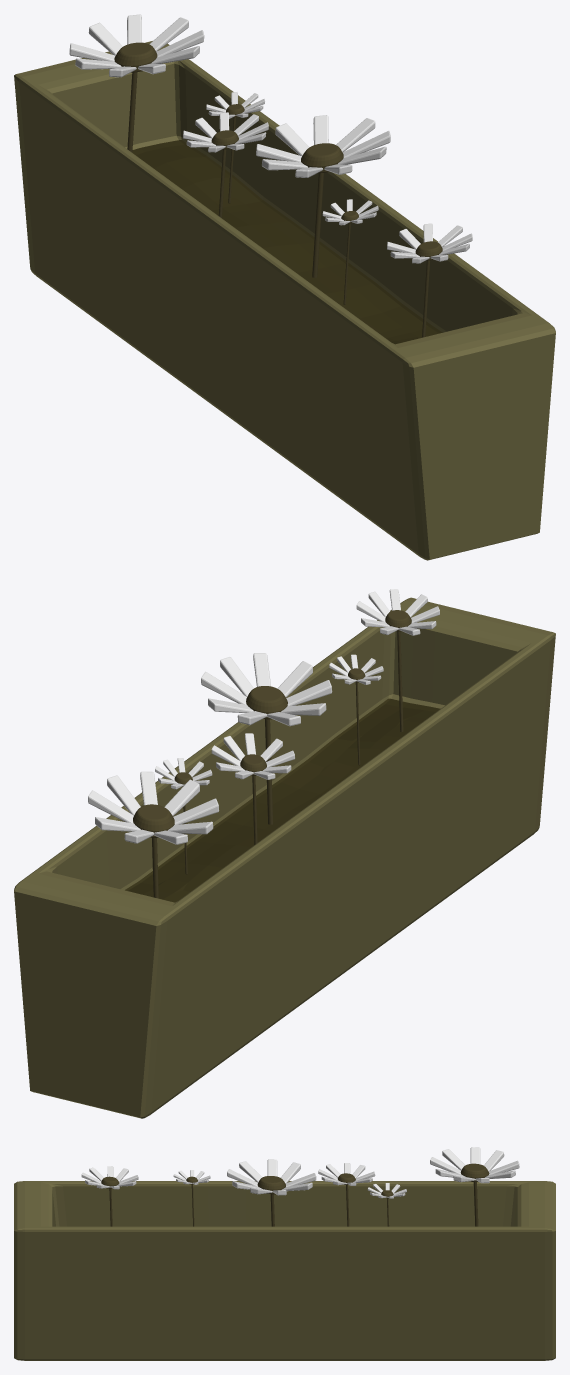
File: flower_4x1.fbx
3 renders of one model, top to bottom at view 1: azimuth 30°, elevation 25°; view 2: azimuth 150°, elevation 25°; view 3: azimuth 270°, elevation 25°, orthographic. The views are drawn at different scales.
Parts seen in each view (by area): view 1: çiçek.4x1; view 2: çiçek.4x1; view 3: çiçek.4x1.
Boxes of the visible parts, box(x1,y1,x2,y2) form: çiçek.4x1: box(14, 14, 555, 560); çiçek.4x1: box(14, 589, 555, 1118); çiçek.4x1: box(14, 1147, 555, 1360).
Bounding box in the file's own units: 78.61 × 126 × 341.
